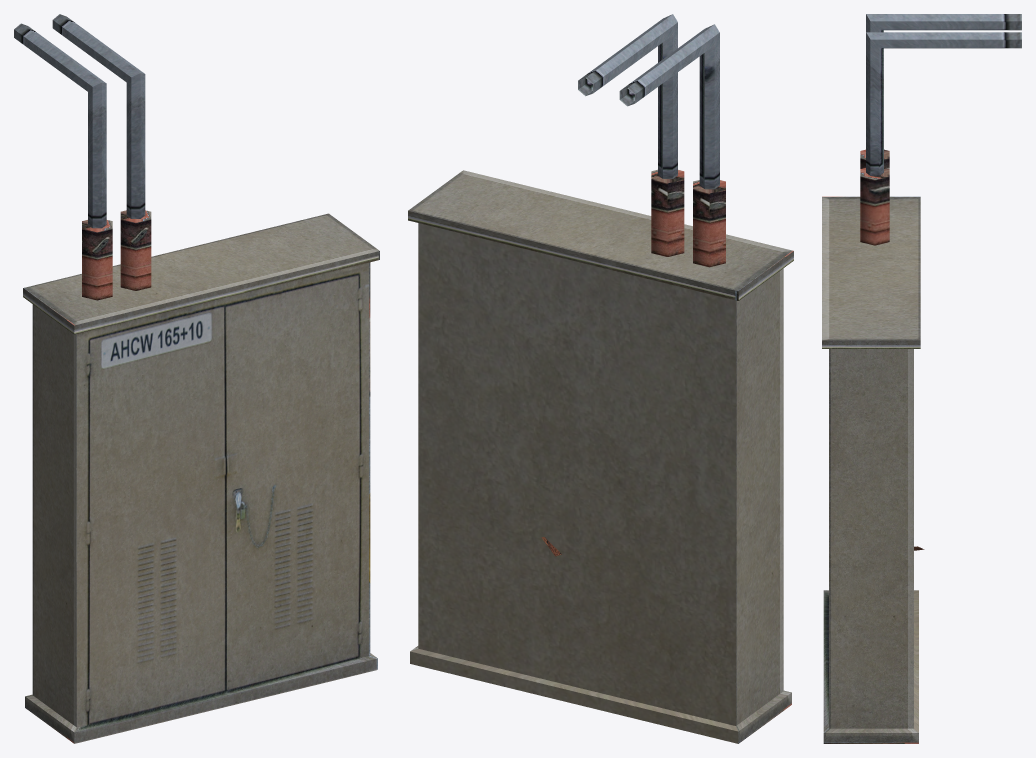
Rendered from Prop_ElecBox_1.FBX.
3 renders of one model, left to right at view 1: azimuth 30°, elevation 25°; view 2: azimuth 150°, elevation 25°; view 3: azimuth 270°, elevation 25°, orthographic. The views are drawn at different scales.
Parts seen in each view (by area): view 1: Prop_ElecBox_1; view 2: Prop_ElecBox_1; view 3: Prop_ElecBox_1.
Part boxes in pixels (x1=…): Prop_ElecBox_1: x1=14, y1=14, x2=379, y2=743; Prop_ElecBox_1: x1=408, y1=14, x2=793, y2=743; Prop_ElecBox_1: x1=822, y1=14, x2=1021, y2=743.
Bounding box in the file's own units: 0.482 × 0.9542 × 0.283.
